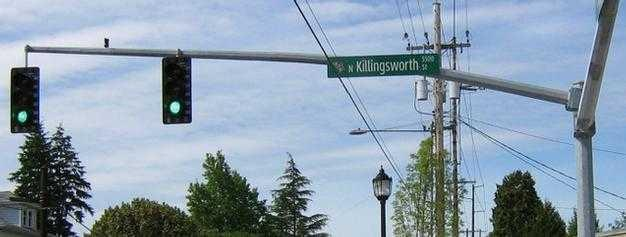green: (161, 55, 194, 127), (8, 67, 41, 135), (166, 98, 184, 118), (13, 111, 32, 128)
